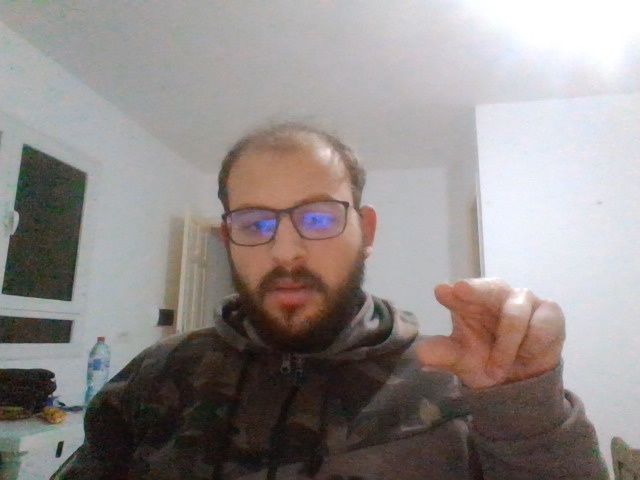No: (419, 283, 566, 387)
